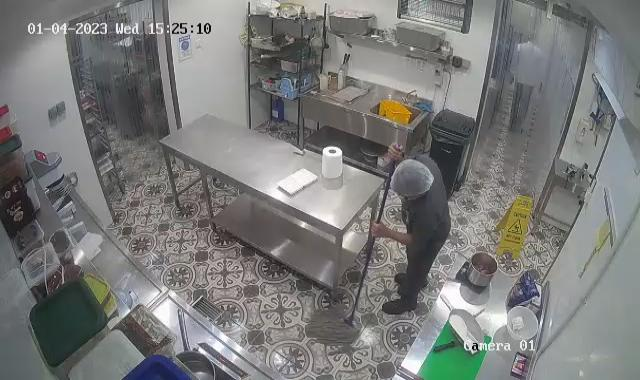hairnet: (390, 158, 434, 197)
